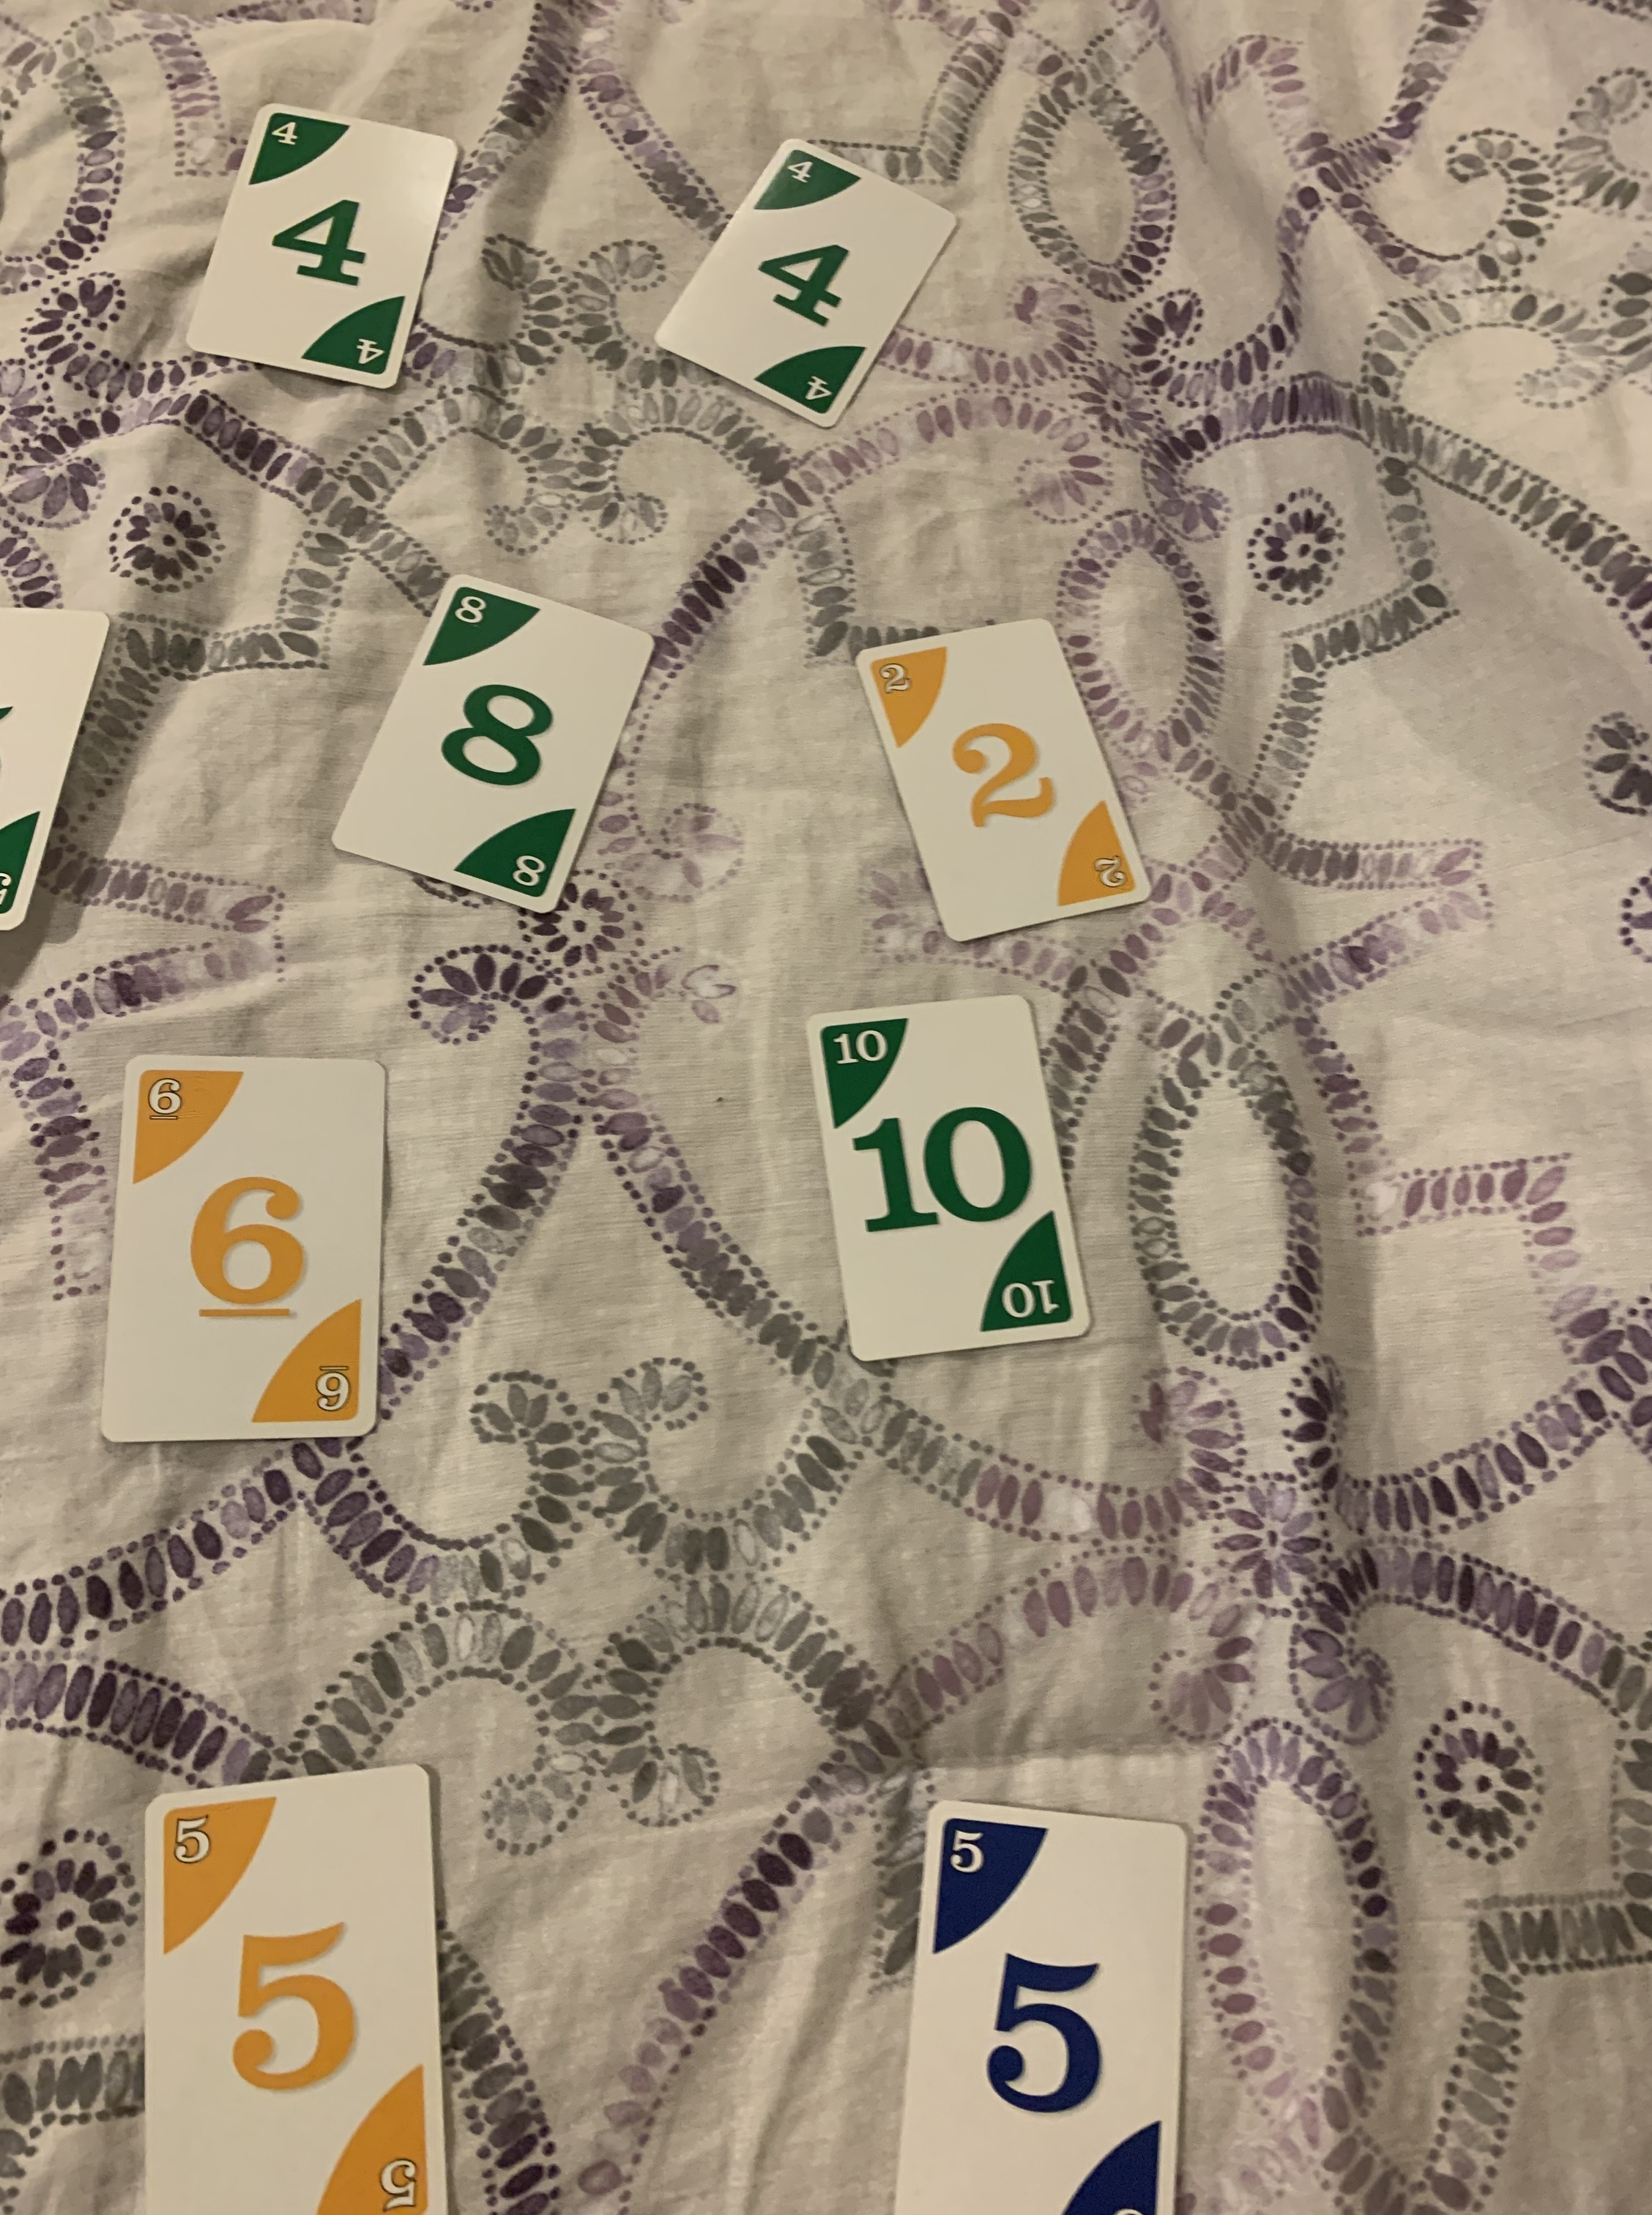eight: (325, 568, 658, 911)
five: (121, 1764, 455, 2215), (882, 1800, 1190, 2215)
four: (649, 128, 965, 434), (180, 104, 465, 392)
six: (94, 1047, 394, 1446)
ten: (798, 989, 1095, 1364)
two: (835, 609, 1157, 950)
